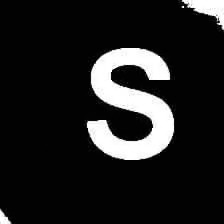LTR_S: (84, 41, 175, 163)
